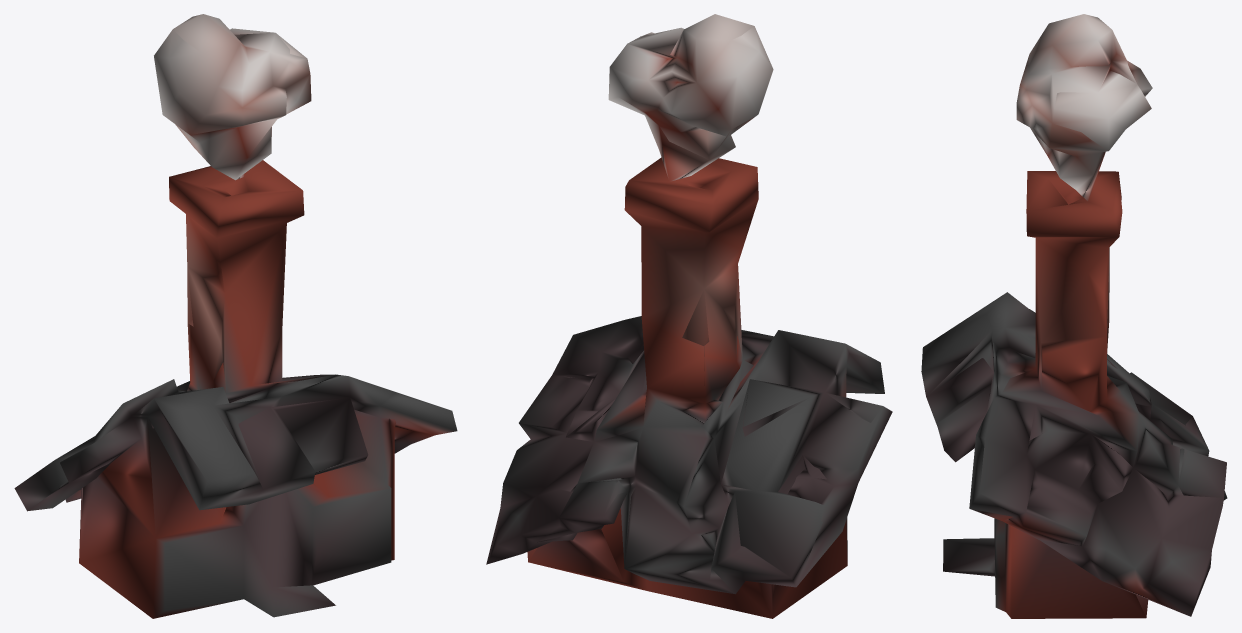
Rendered from gen3d-chimney-lod1.glb.
The picture shows the model from 3 angles, left to right: view 1: azimuth 30°, elevation 25°; view 2: azimuth 150°, elevation 25°; view 3: azimuth 270°, elevation 25°; orthographic projection. The views are drawn at different scales.
Parts seen in each view (by area): view 1: part_0; view 2: part_0; view 3: part_0.
Boxes of the visible parts, x1,y1,x2,y2 form: part_0: (14,14,457,618); part_0: (486,14,892,618); part_0: (921,14,1227,618).
Bounding box in the file's own units: 0.6326 × 0.9965 × 0.5184.
